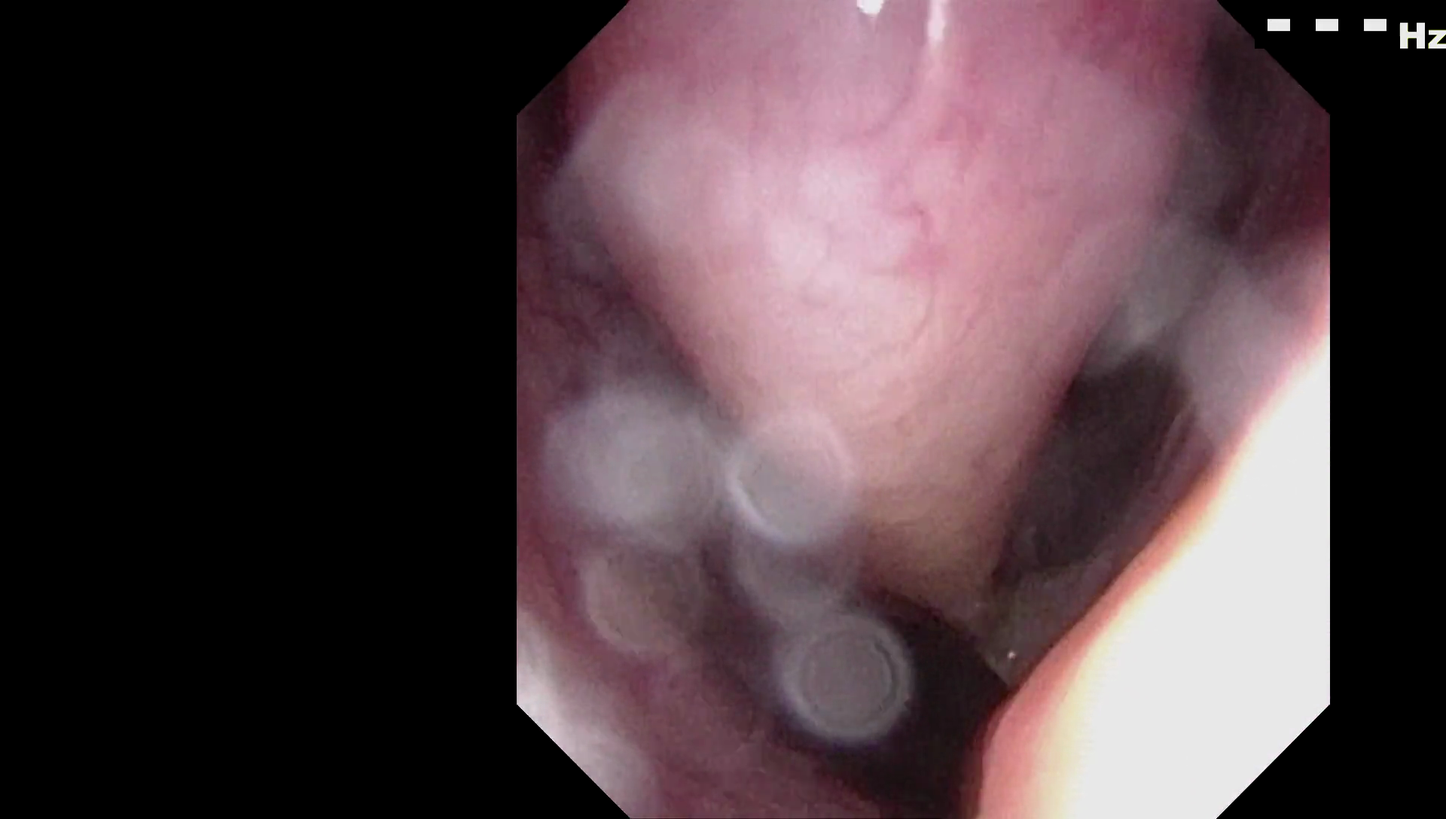close_wall: (1013, 370, 1323, 819)
next: (995, 241, 1199, 610), (789, 544, 1020, 819)
